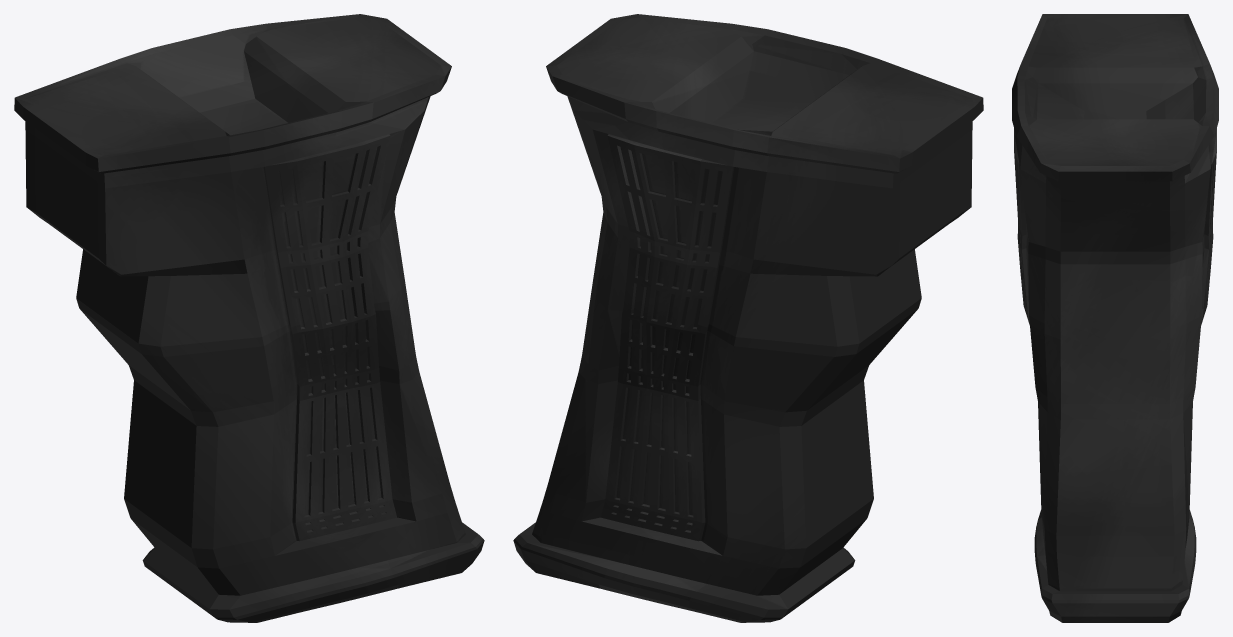
File: Handle(polymer).fbx
3 renders of one model, left to right at view 1: azimuth 30°, elevation 25°; view 2: azimuth 150°, elevation 25°; view 3: azimuth 270°, elevation 25°, orthographic. The views are drawn at different scales.
Visible parts, largest first — view 1: HandlePolymer; view 2: HandlePolymer; view 3: HandlePolymer.
Boxes of the visible parts, x1,y1,x2,y2 form: HandlePolymer: [14, 14, 484, 622]; HandlePolymer: [513, 14, 983, 622]; HandlePolymer: [1012, 14, 1218, 622].
Bounding box in the file's own units: 21.66 × 27.18 × 11.2.
Materials: 1 (1 with a texture image).
